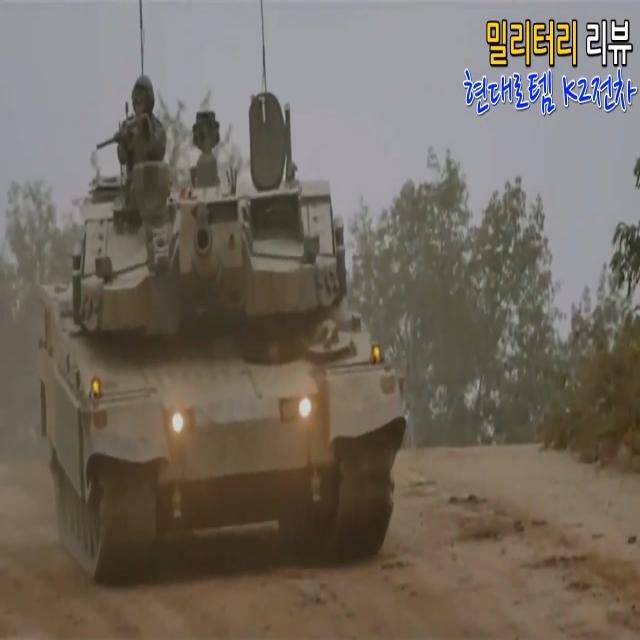korea tank: (38, 77, 406, 580)
